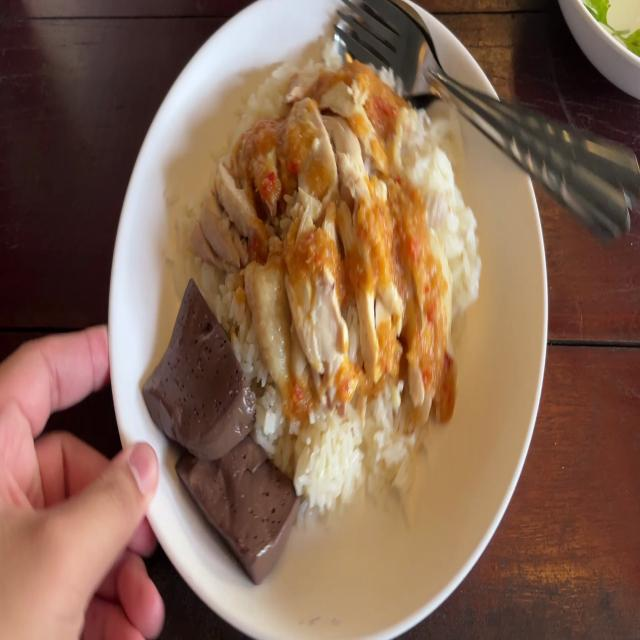chicken_rice: (218, 81, 425, 372)
noodle: (184, 418, 297, 580), (143, 285, 250, 453)
